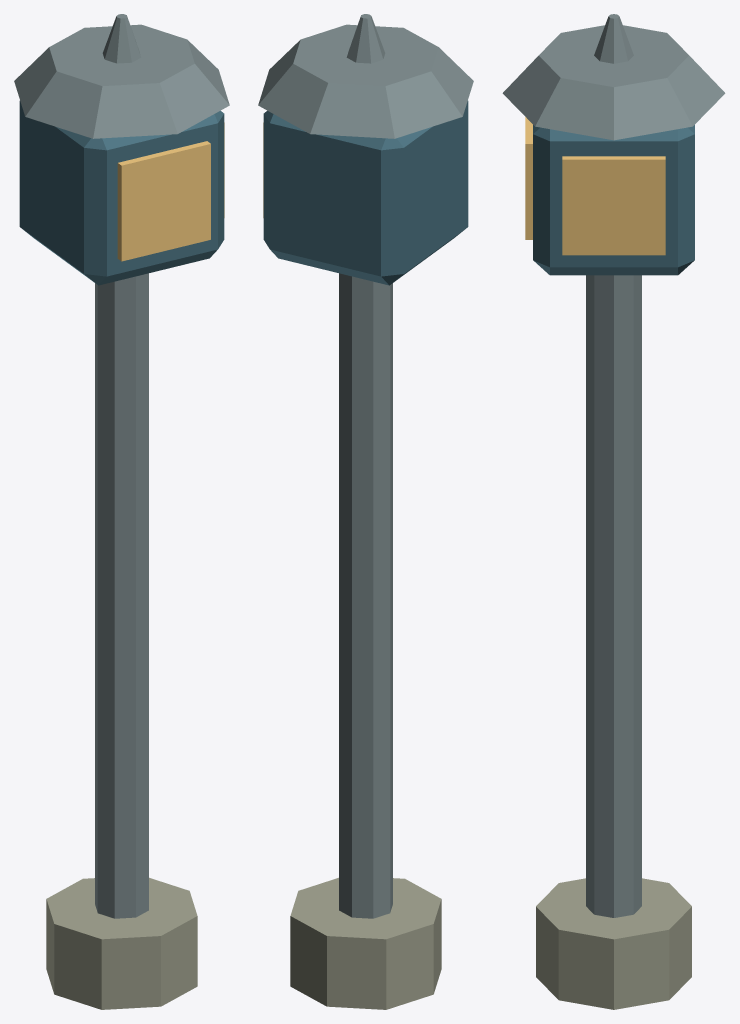
File: coastal_lamp_a.glb
3 views of the same model, side by side, from view 1: azimuth 30°, elevation 25°; view 2: azimuth 150°, elevation 25°; view 3: azimuth 270°, elevation 25° (orthographic).
Parts seen in each view (by area): view 1: coastal_lamp_a; view 2: coastal_lamp_a; view 3: coastal_lamp_a.
Part boxes in pixels (left/top/right/bottom): coastal_lamp_a: left=14, top=14, right=229, bottom=1009; coastal_lamp_a: left=258, top=14, right=473, bottom=1009; coastal_lamp_a: left=502, top=14, right=725, bottom=1009.
Bounding box in the file's own units: 0.8 × 3.8 × 0.8.
